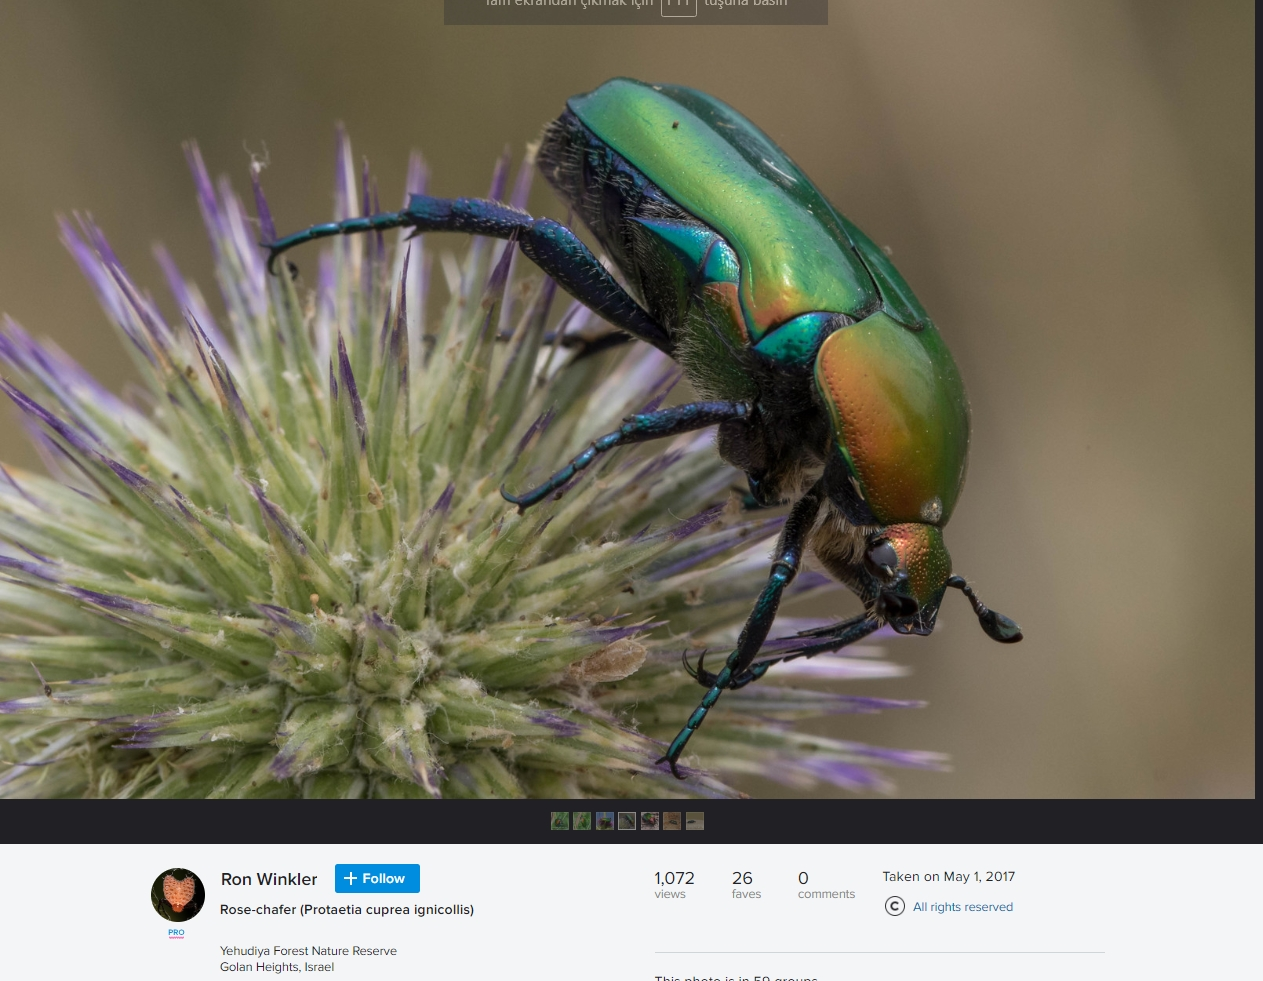Protaetia_cuprea_ignicollis: (254, 76, 1030, 767)
